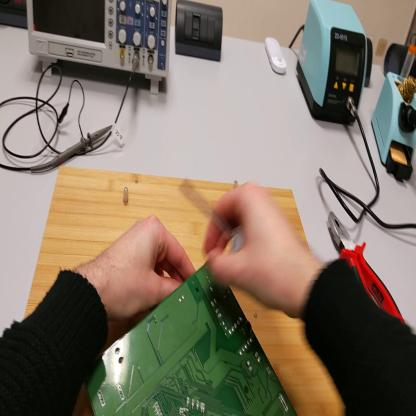hand: (204, 183, 306, 314), (96, 217, 197, 319)
low voltage board: (87, 268, 297, 416)
oscilloscope: (28, 3, 173, 93)
oscilloscope probe tip: (31, 124, 112, 174)
pliers: (328, 209, 406, 323)
screwdriver-: (182, 180, 246, 252)
socket: (384, 44, 416, 81), (1, 2, 27, 31)
welder base: (373, 29, 416, 181)
welder station: (301, 3, 365, 131)
working area: (29, 164, 346, 414)
